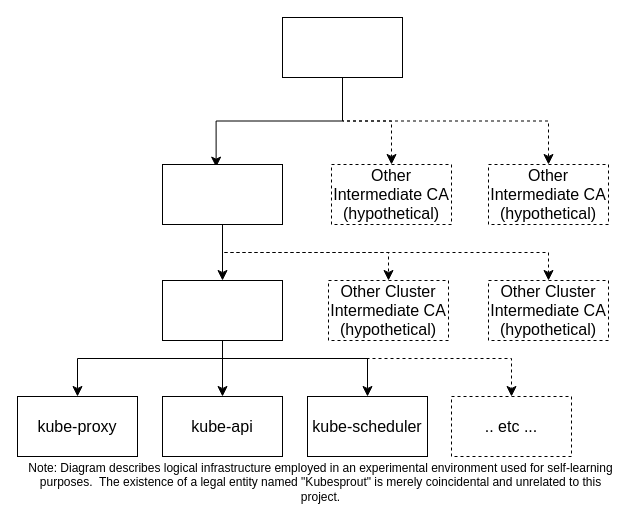
The diagram is 639 pixels wide and 521 high, and some of its shapes have lost their labels. Here are the shapes that lost their labels. From the top down, the centre of each, then its label:
At point (342, 47): "Kubesprout, Inc. Root CA".
At point (222, 194): "Server Clusters Intermediate CA".
At point (222, 310): "Per-Cluster Intermediate CA".
